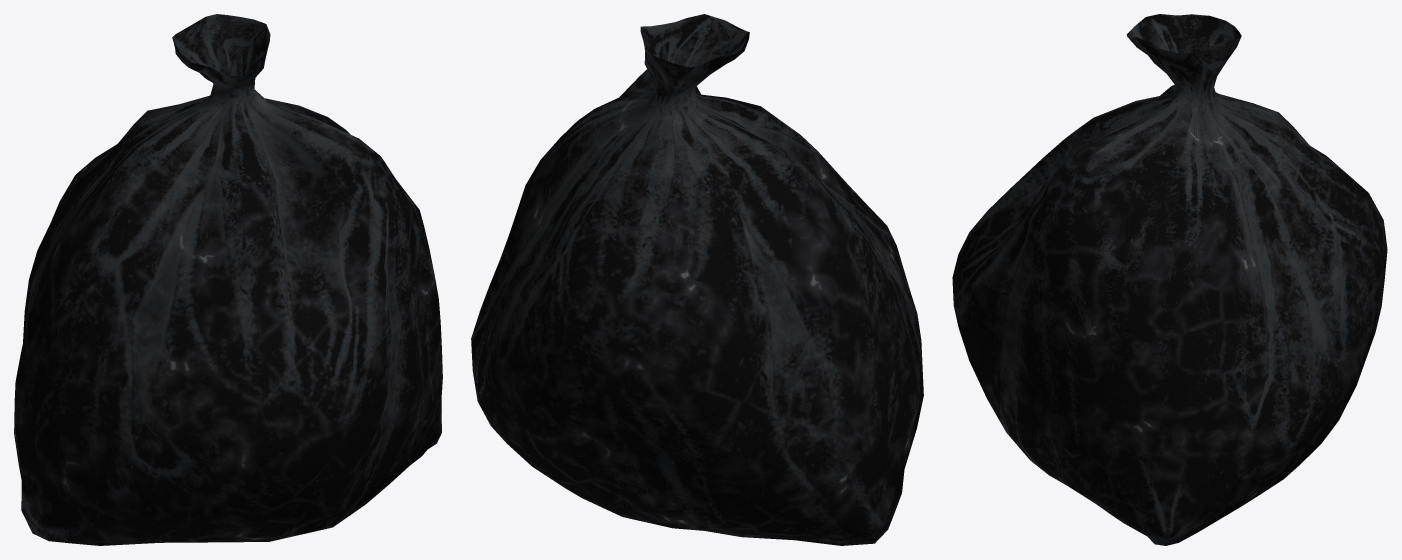
The model's file is garbage.glb.
3 views of the same model, side by side, from view 1: azimuth 30°, elevation 25°; view 2: azimuth 150°, elevation 25°; view 3: azimuth 270°, elevation 25° (orthographic). The views are drawn at different scales.
Visible parts, largest first — view 1: Package_low_0; view 2: Package_low_0; view 3: Package_low_0.
Boxes of the visible parts, x1,y1,x2,y2 form: Package_low_0: [14, 14, 442, 545]; Package_low_0: [471, 14, 923, 545]; Package_low_0: [952, 14, 1387, 545].
Size of the model in its own units: 0.5149 by 0.5761 by 0.5094.
1 material, 1 textured.
